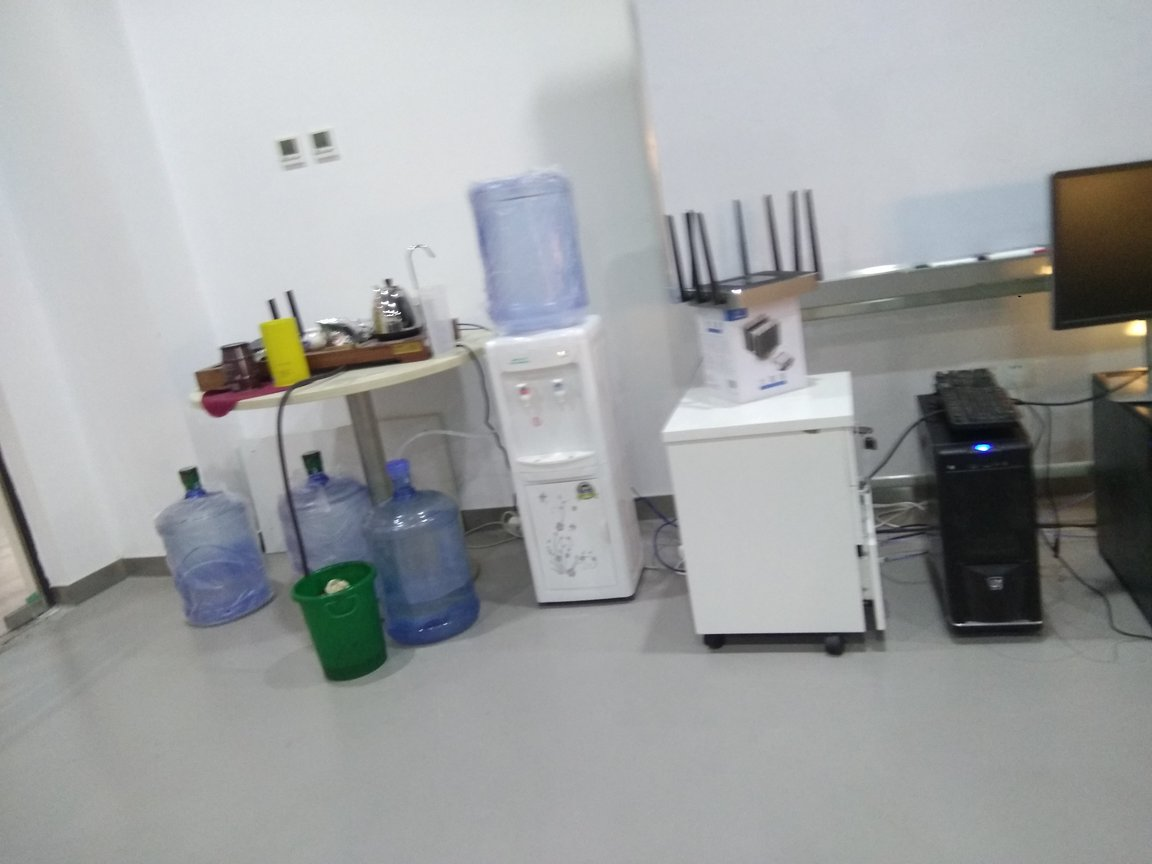computer: (913, 387, 1065, 657)
drawer chest: (656, 366, 900, 674)
monitor: (1047, 155, 1152, 410)
scuttlebutt: (464, 173, 596, 346), (158, 464, 273, 639), (376, 455, 481, 642), (280, 447, 393, 617)
water dispenser: (479, 316, 644, 614)
